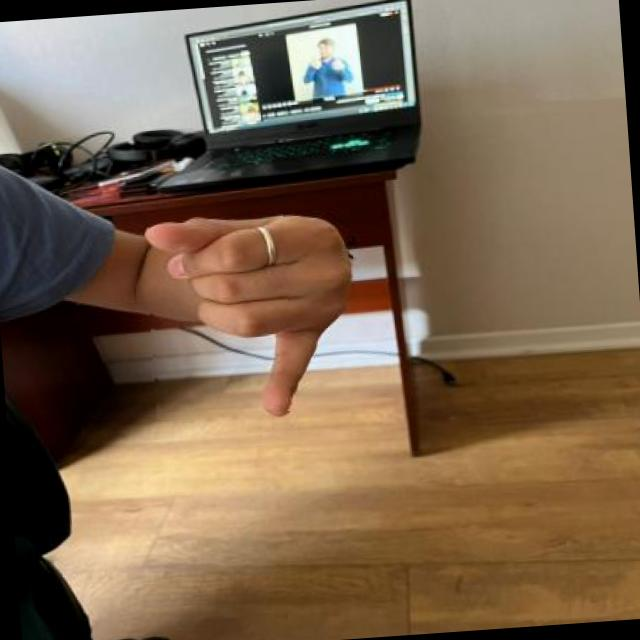Z: (142, 197, 364, 420)
